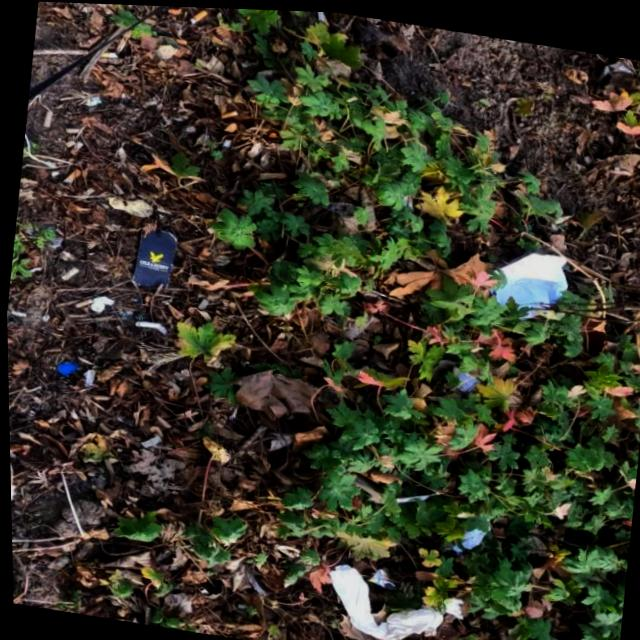Paper: (317, 558, 444, 640), (481, 239, 570, 323)
